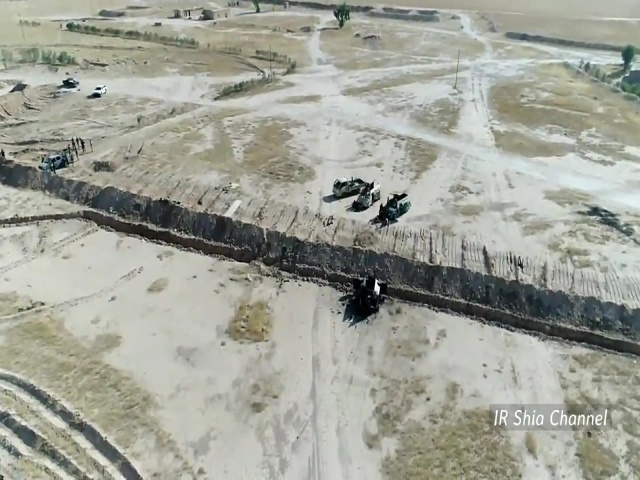vehicle: (377, 189, 410, 220), (355, 183, 381, 211), (330, 175, 365, 195), (90, 82, 107, 98), (61, 77, 81, 89)
